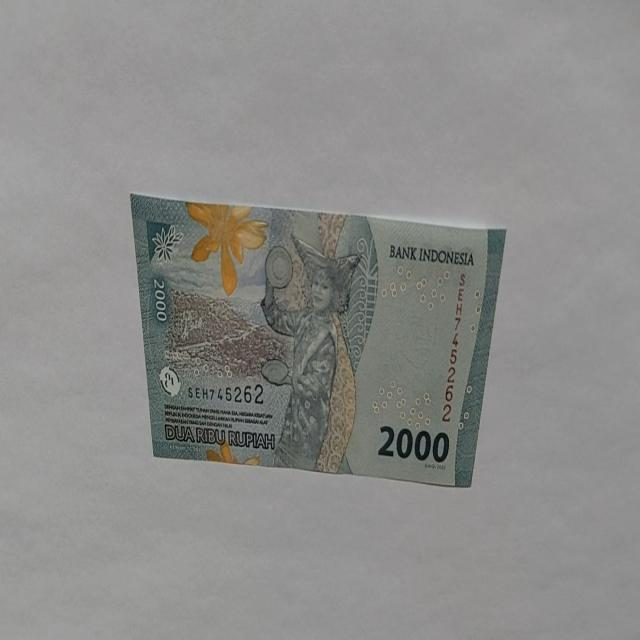dua ribu rupiah: (129, 196, 507, 488), (259, 230, 361, 473)
